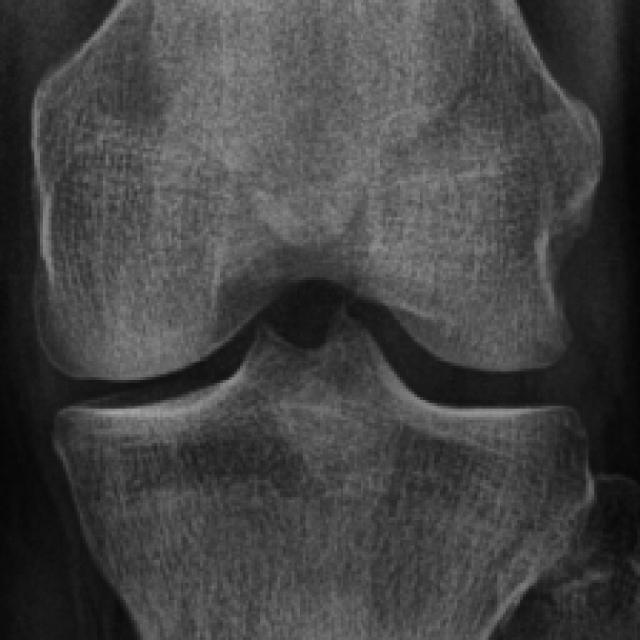femur: (30, 0, 606, 383)
tibia: (60, 320, 592, 640)
